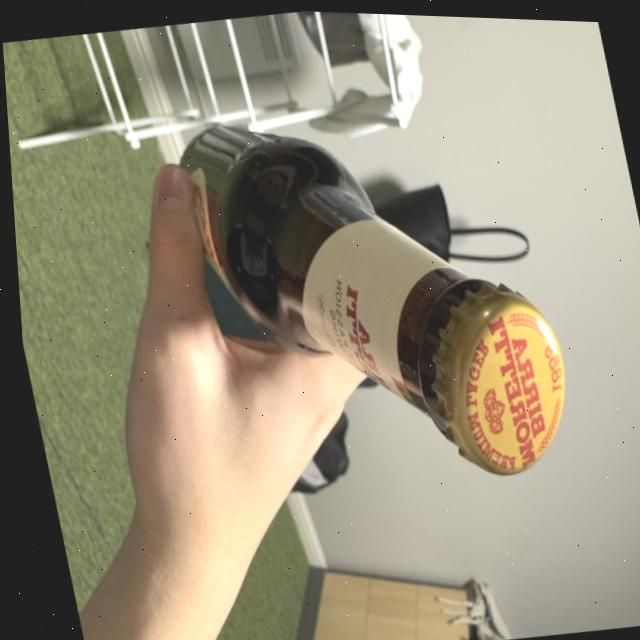beer: (164, 73, 584, 511)
